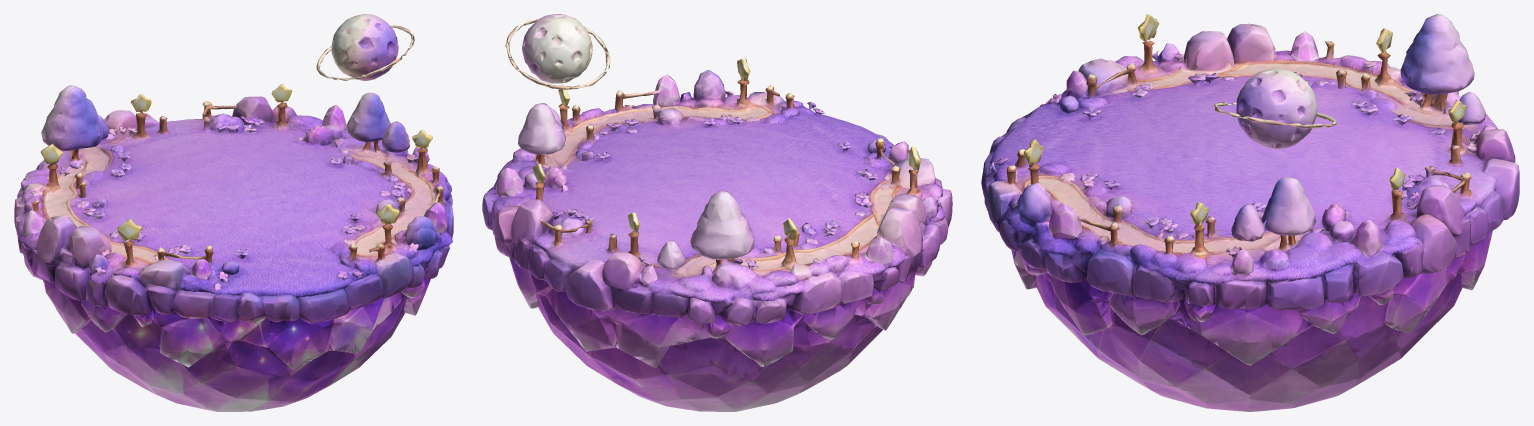
File: star_dream.glb
3 views of the same model, side by side, from view 1: azimuth 30°, elevation 25°; view 2: azimuth 150°, elevation 25°; view 3: azimuth 270°, elevation 25° (orthographic). The views are drawn at different scales.
Bounding box in the file's own units: 0.9964 × 0.8174 × 1.
1 material, 1 textured.
